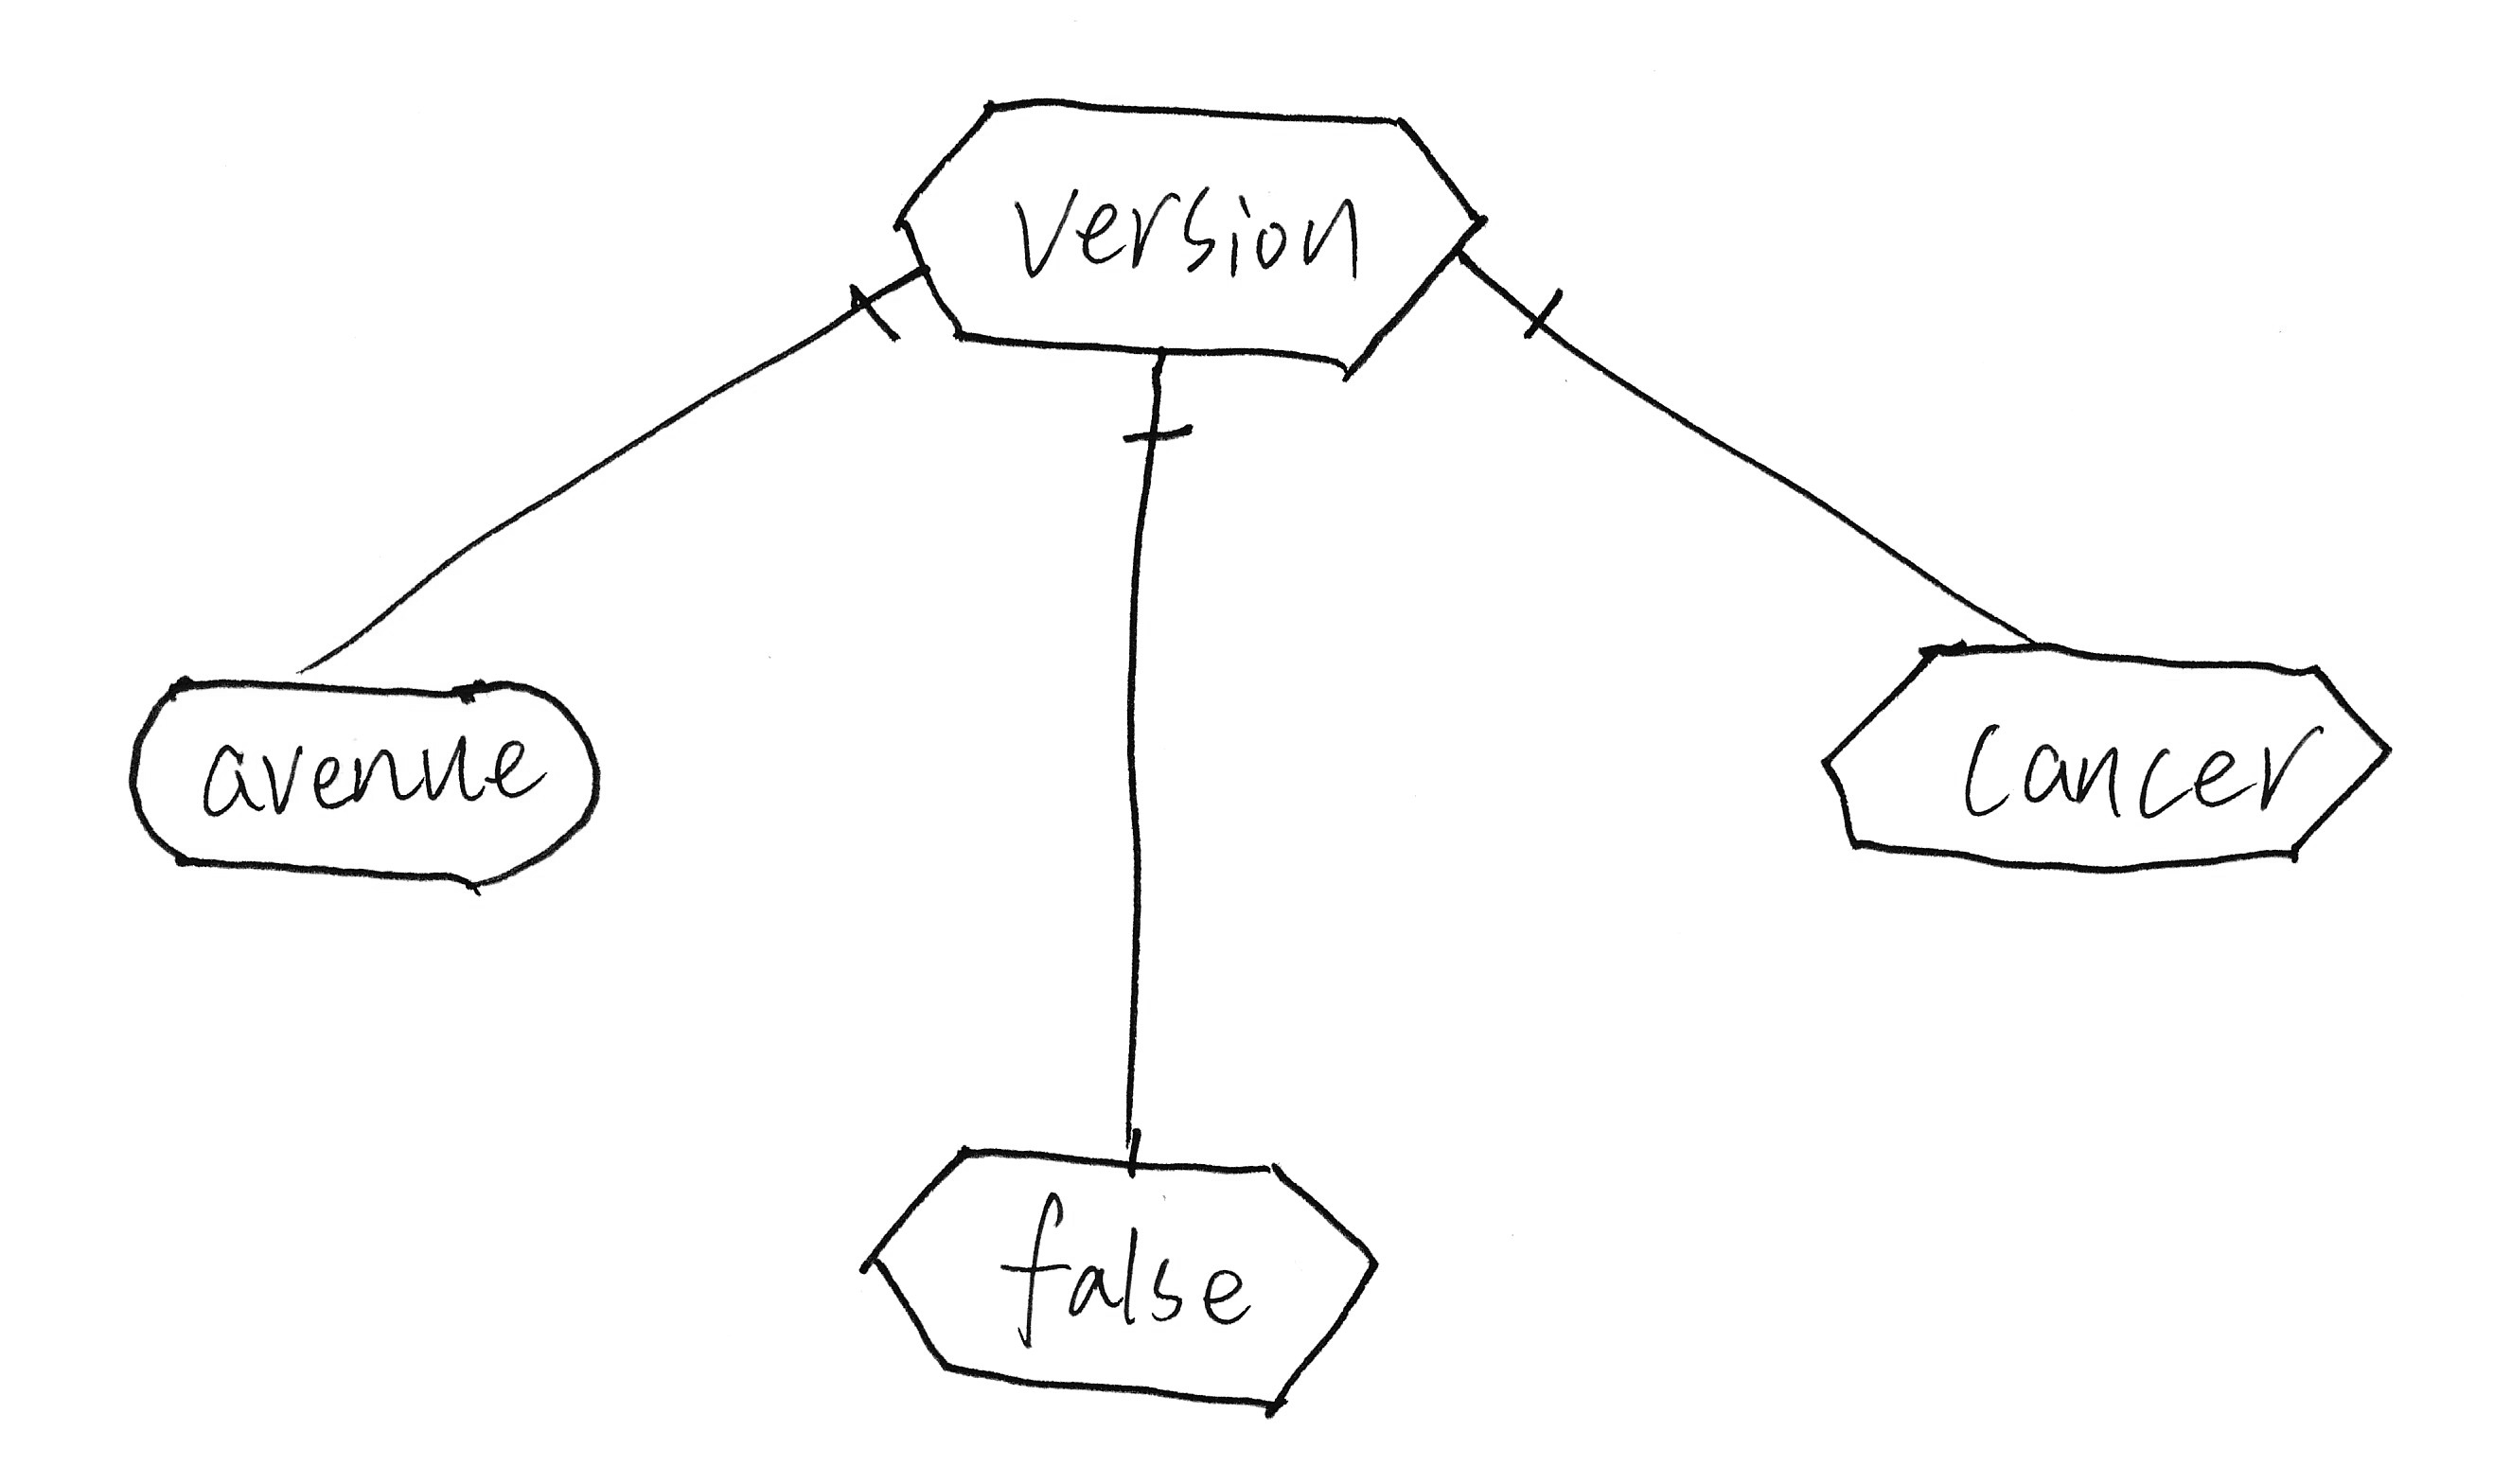and: (1100, 369, 1229, 482), (823, 261, 922, 375), (1489, 270, 1595, 375)
goal: (99, 647, 629, 919)
task: (874, 72, 1508, 401), (827, 1113, 1404, 1435), (1803, 609, 2422, 908)
